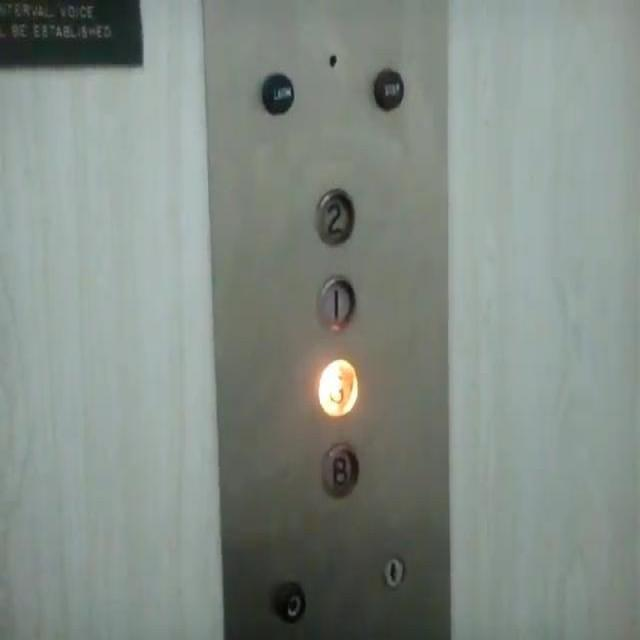1: (314, 272, 359, 335)
2: (312, 184, 357, 247)
B: (316, 439, 361, 501)
G: (314, 356, 359, 419)
text_blur: (258, 68, 295, 116), (369, 62, 406, 110)
